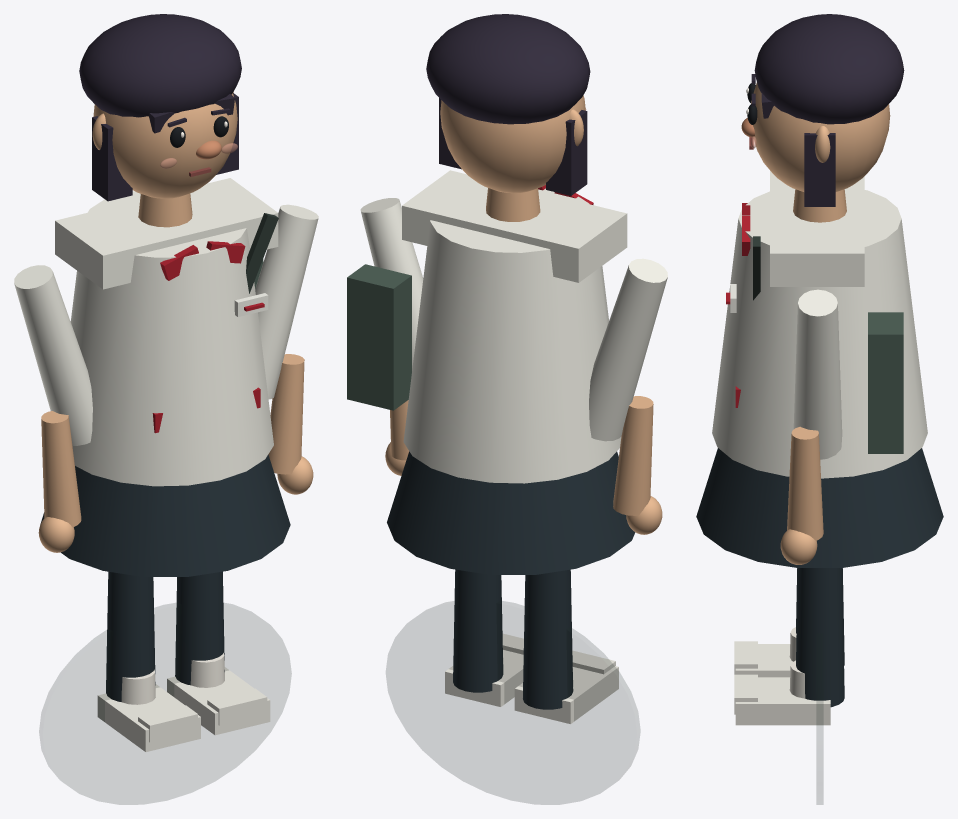
File: player_female_white.glb
The picture shows the model from 3 angles, left to right: view 1: azimuth 30°, elevation 25°; view 2: azimuth 150°, elevation 25°; view 3: azimuth 270°, elevation 25°; orthographic projection. The views are drawn at different scales.
Parts seen in each view (by area): view 1: torso, contact_shadow, skirt, hair_cap, shoulder_line, head, upper_arm_-0.235, upper_arm_0.235, leg_-0.075, leg_0.075, forearm_-0.235, forearm_0.235 (+12 smaller); view 2: torso, contact_shadow, skirt, hair_cap, shoulder_line, shoulder_bag, upper_arm_-0.235, head, leg_-0.075, leg_0.075, forearm_-0.235, upper_arm_0.235 (+7 smaller); view 3: torso, skirt, hair_cap, shoulder_line, upper_arm_0.235, head, leg_0.075, shoulder_bag, forearm_0.235, shoe_0.075, side_hair_0.115, shoe_-0.075 (+7 smaller).
Part boxes in pixels (bbox=[...]): torso: bbox=[70, 191, 273, 486]; contact_shadow: bbox=[39, 603, 291, 804]; skirt: bbox=[40, 454, 290, 576]; hair_cap: bbox=[79, 14, 241, 117]; shoulder_line: bbox=[55, 178, 278, 289]; head: bbox=[93, 93, 237, 198]; upper_arm_-0.235: bbox=[14, 265, 92, 445]; upper_arm_0.235: bbox=[255, 204, 318, 399]; leg_-0.075: bbox=[106, 571, 155, 701]; leg_0.075: bbox=[175, 571, 224, 685]; forearm_-0.235: bbox=[41, 411, 81, 527]; forearm_0.235: bbox=[268, 354, 304, 474]; torso: bbox=[403, 188, 621, 483]; contact_shadow: bbox=[386, 601, 639, 804]; skirt: bbox=[387, 451, 635, 574]; hair_cap: bbox=[426, 14, 590, 124]; shoulder_line: bbox=[402, 170, 627, 282]; shoulder_bag: bbox=[347, 264, 411, 410]; upper_arm_-0.235: bbox=[589, 258, 667, 441]; head: bbox=[440, 95, 585, 193]; leg_-0.075: bbox=[523, 569, 573, 709]; leg_0.075: bbox=[453, 569, 503, 692]; forearm_-0.235: bbox=[613, 396, 653, 515]; upper_arm_0.235: bbox=[360, 198, 423, 370]; torso: bbox=[712, 190, 927, 478]; skirt: bbox=[696, 448, 943, 567]; hair_cap: bbox=[754, 14, 904, 124]; shoulder_line: bbox=[770, 171, 864, 286]; upper_arm_0.235: bbox=[793, 289, 842, 459]; head: bbox=[751, 82, 890, 191]; leg_0.075: bbox=[796, 568, 844, 707]; shoulder_bag: bbox=[868, 312, 903, 453]; forearm_0.235: bbox=[787, 426, 823, 540]; shoe_0.075: bbox=[735, 677, 830, 725]; side_hair_0.115: bbox=[804, 133, 835, 206]; shoe_-0.075: bbox=[735, 644, 792, 677].
Bounding box in the file's own units: 0.636 × 1.56 × 0.4606.
